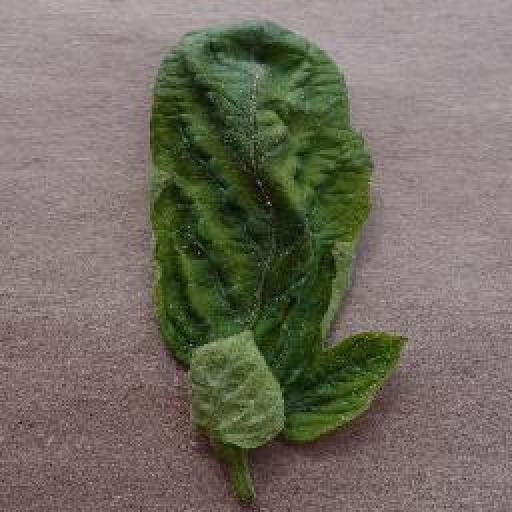disease_tomato: (148, 16, 409, 449)
